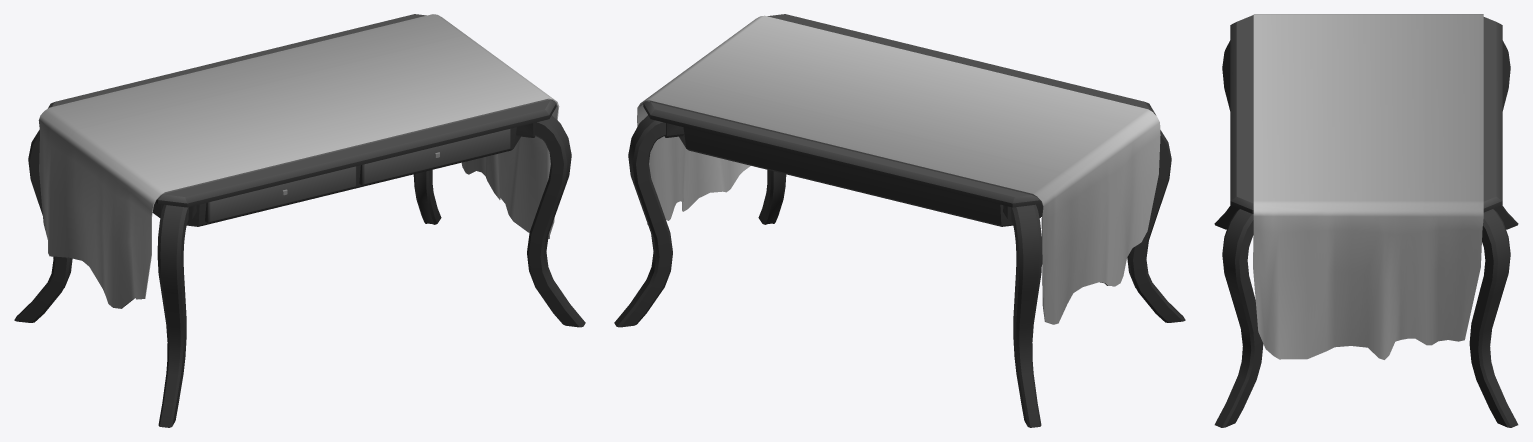
File: Desk_01_t.fbx
3 views of the same model, side by side, from view 1: azimuth 30°, elevation 25°; view 2: azimuth 150°, elevation 25°; view 3: azimuth 270°, elevation 25° (orthographic).
Parts seen in each view (by area): view 1: polySurface95; view 2: polySurface95; view 3: polySurface95.
Boxes of the visible parts, x1,y1,x2,y2 form: polySurface95: (14, 14, 585, 427); polySurface95: (614, 14, 1185, 427); polySurface95: (1214, 14, 1518, 427).
Size of the model in its own units: 1.63 by 0.7955 by 1.01.
Materials: 1 (1 with a texture image).
